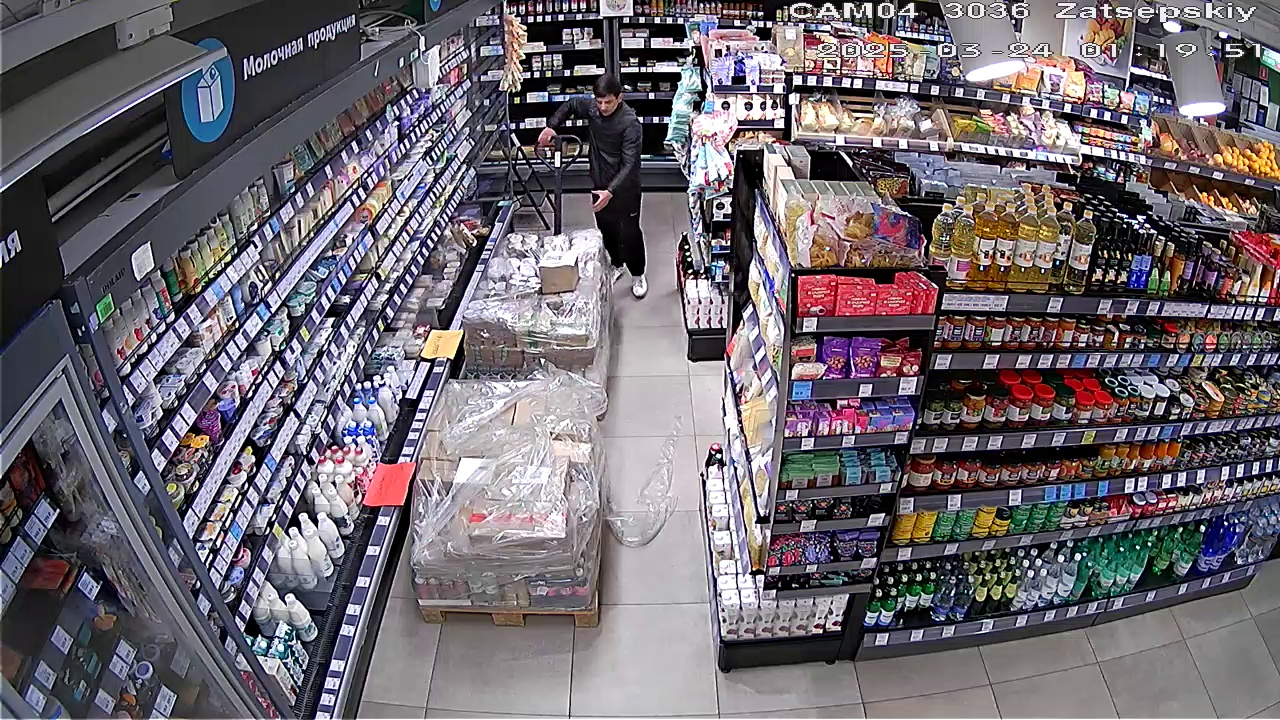Human: (534, 72, 666, 295)
pallet: (419, 374, 607, 630), (458, 230, 617, 387)
